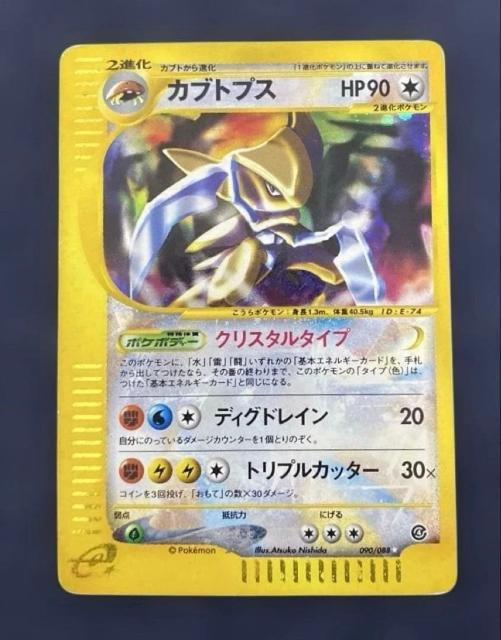Card: (53, 35, 462, 598)
Name: (162, 75, 281, 107)
